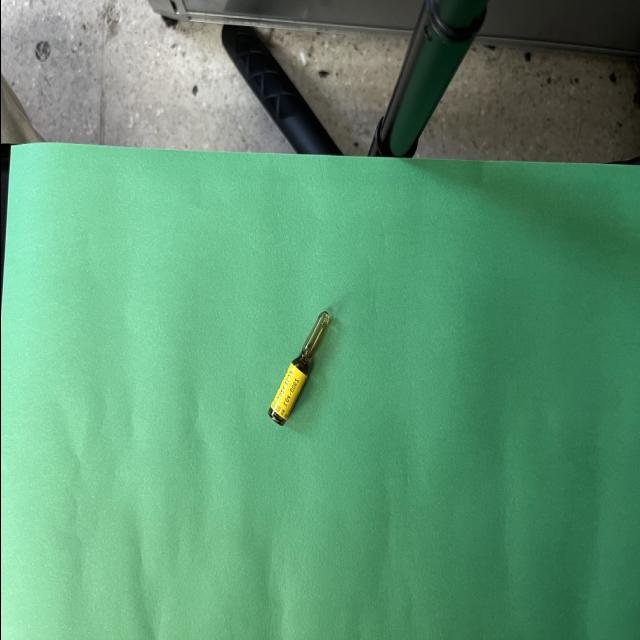Ampoules: (268, 311, 329, 425)
